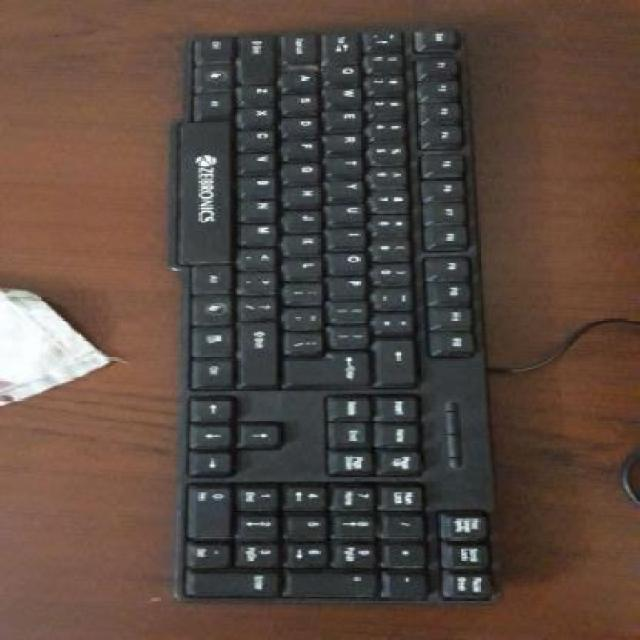keyboard: (177, 20, 499, 597)
